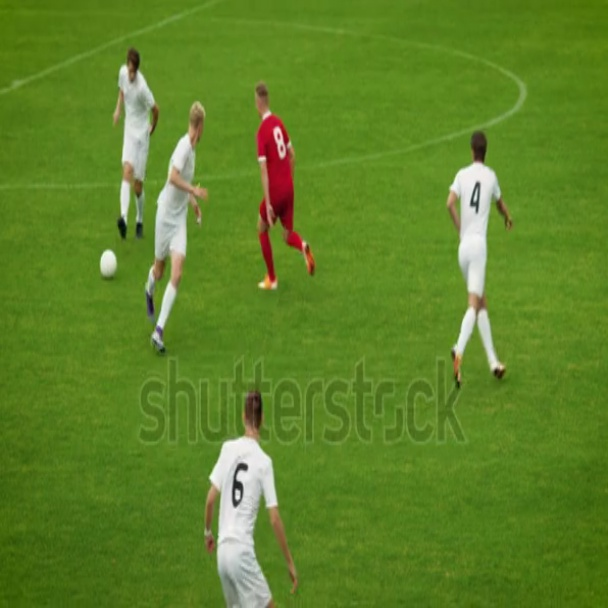ball: (100, 248, 117, 277)
